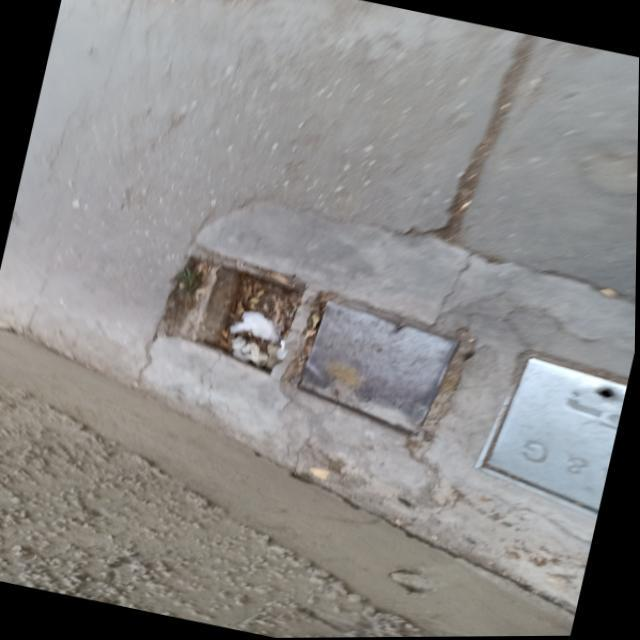hole: (154, 240, 318, 380)
